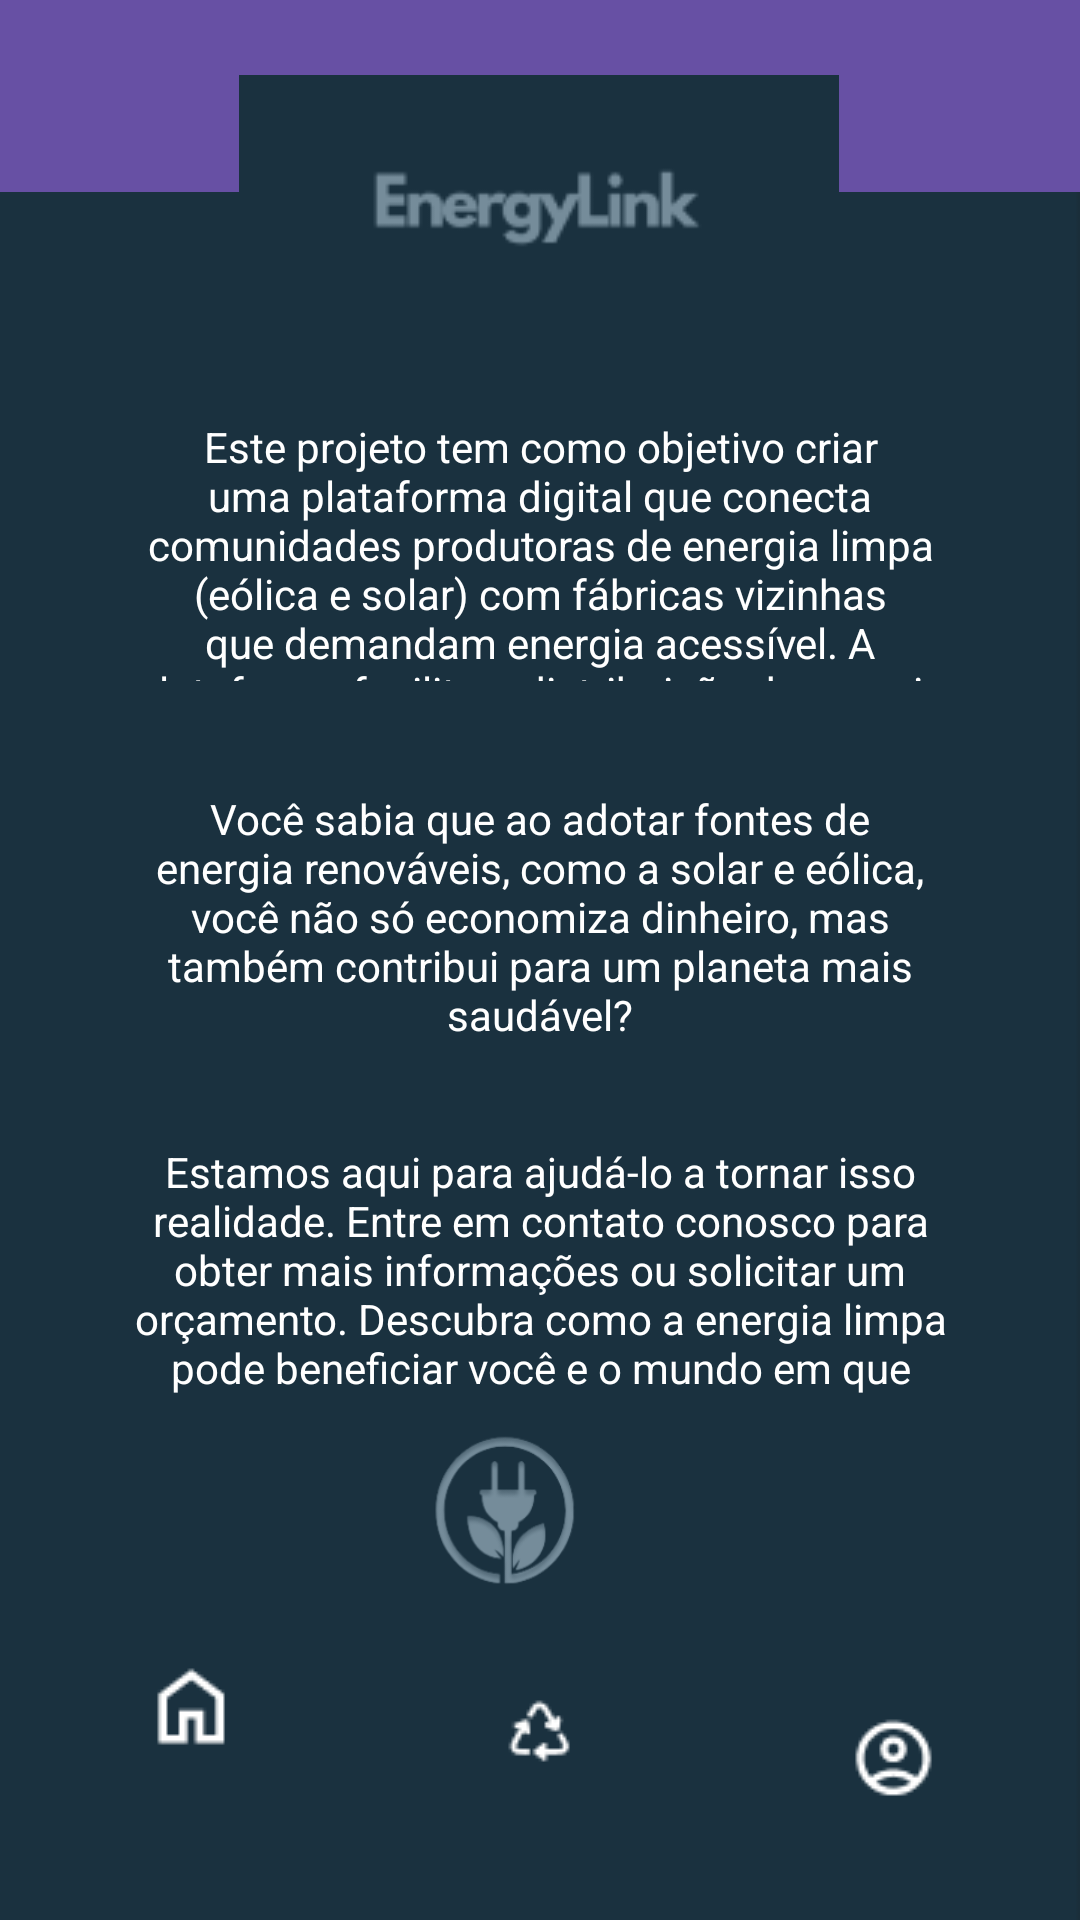

Named icons in this screenshot (1080px x 1920px) and their bounding boxes, {"x1": x1, "y1": y1, "x2": x2, "y2": y2}:
home: {"x1": 157, "y1": 1668, "x2": 225, "y2": 1745}
perfil: {"x1": 855, "y1": 1719, "x2": 932, "y2": 1796}
